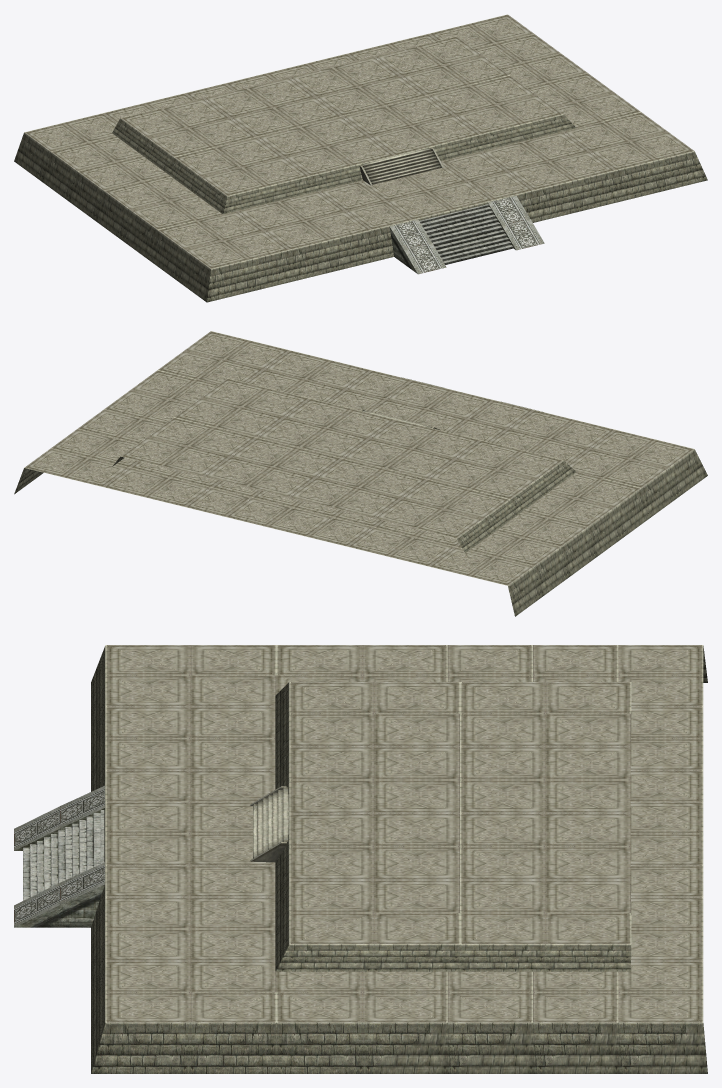
The model's file is guild_pvp_gatebase.fbx.
3 renders of one model, top to bottom at view 1: azimuth 30°, elevation 25°; view 2: azimuth 150°, elevation 25°; view 3: azimuth 270°, elevation 25°, orthographic. The views are drawn at different scales.
Parts seen in each view (by area): view 1: objObject050; view 2: objObject050; view 3: objObject050.
Boxes of the visible parts, box(x1,y1,x2,y2) form: objObject050: box(14, 14, 707, 302); objObject050: box(14, 331, 707, 616); objObject050: box(14, 645, 707, 1073).
Bounding box in the file's own units: 66.82 × 5.19 × 50.1.
